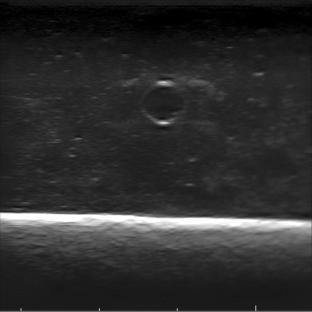vessel: (140, 80, 186, 125)
